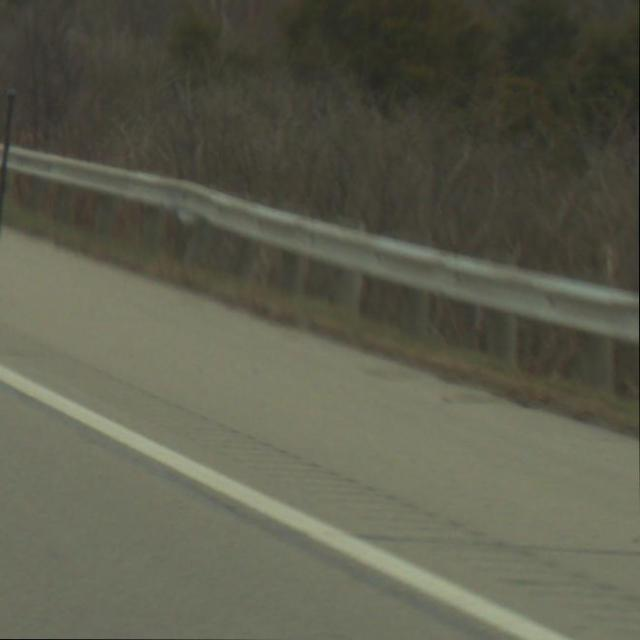Guard rail: (0, 136, 640, 417)
